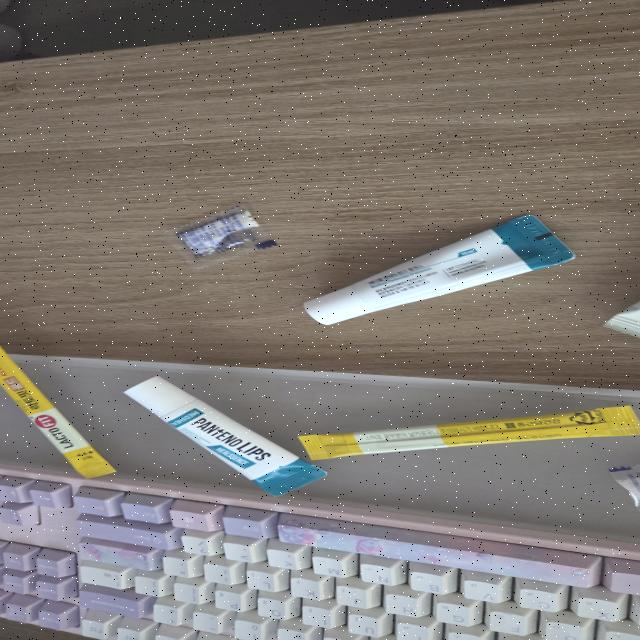lacto: (300, 404, 640, 461), (0, 344, 116, 478)
lib: (300, 214, 575, 327), (121, 376, 330, 499)
salt: (159, 201, 279, 270), (607, 465, 640, 508)
